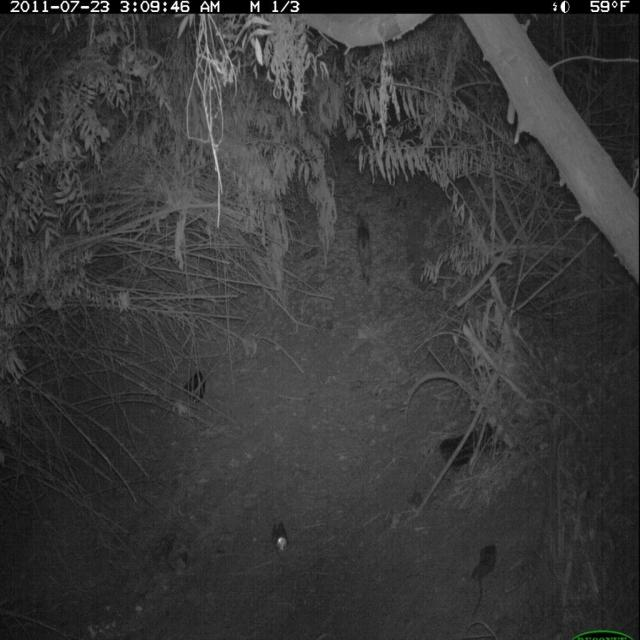bobcat: (355, 211, 377, 289)
